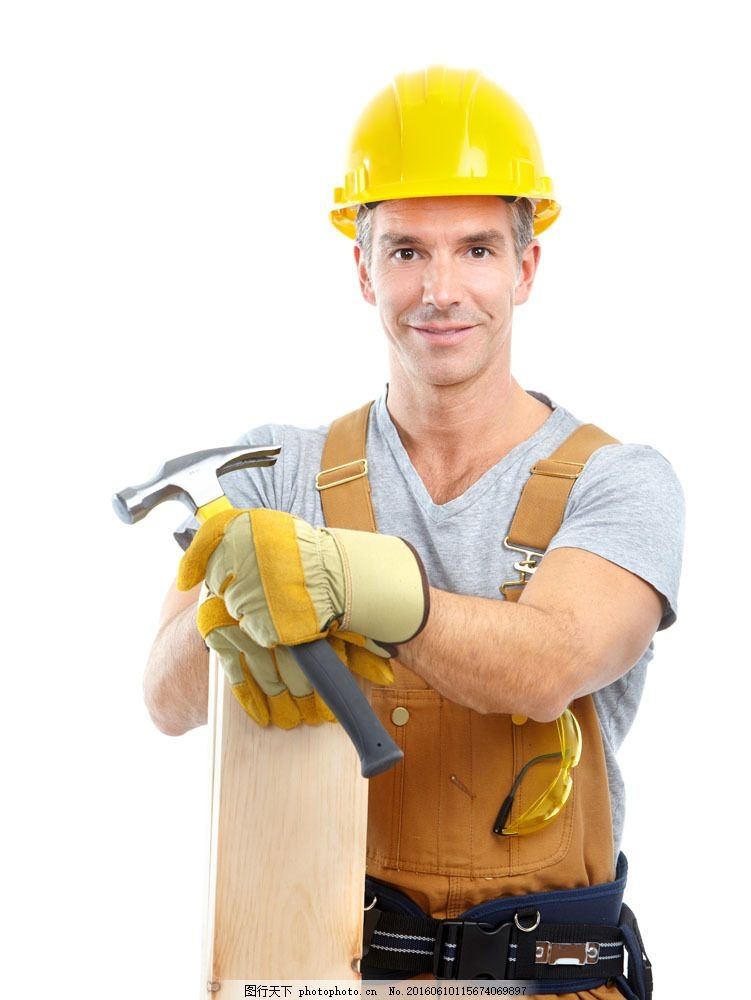yellow: (338, 69, 557, 400)
